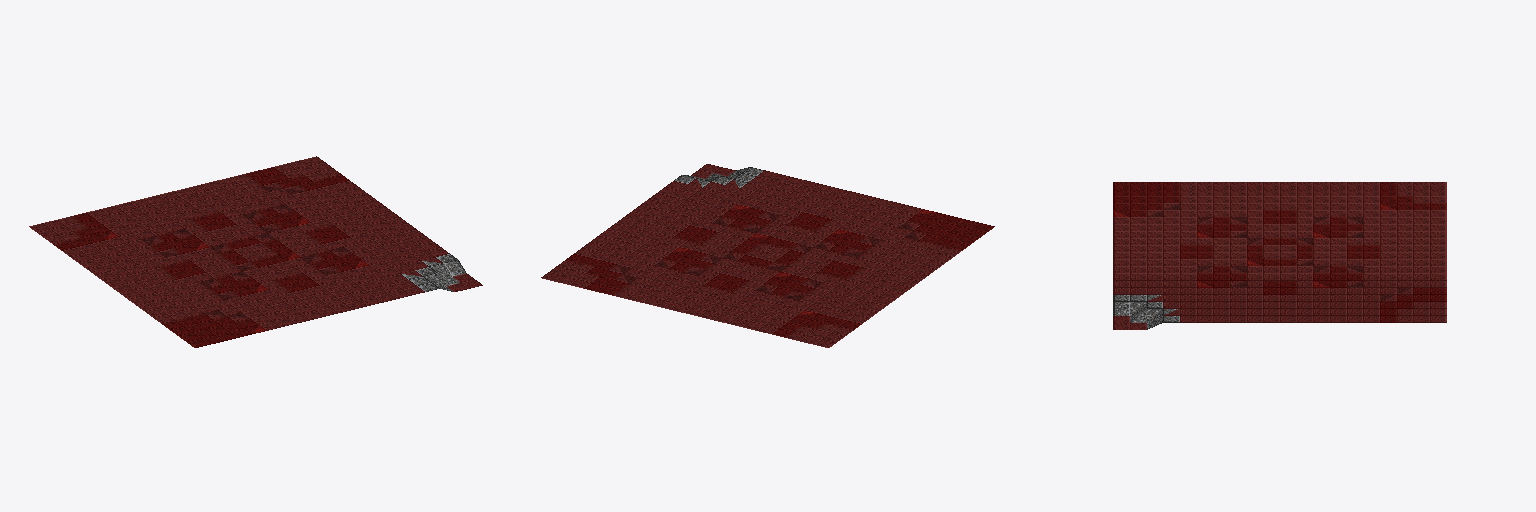
3 renders of one model, left to right at view 1: azimuth 30°, elevation 25°; view 2: azimuth 150°, elevation 25°; view 3: azimuth 270°, elevation 25°, orthographic.
Parts seen in each view (by area): view 1: FloorCentral_2; view 2: FloorCentral_2; view 3: FloorCentral_2.
Part boxes in pixels (x1,y1,x2,y2): FloorCentral_2: (29, 156, 482, 347); FloorCentral_2: (541, 164, 994, 347); FloorCentral_2: (1113, 182, 1446, 329).
Size of the model in its own units: 20 by 0.4822 by 20.
Materials: 11 (11 with a texture image).